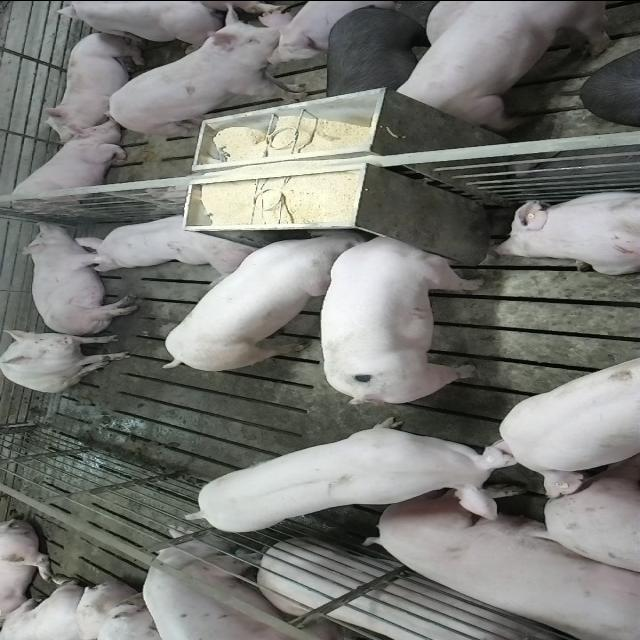Feeding: (160, 229, 362, 377), (318, 224, 484, 398)
Lateral_lying: (368, 477, 640, 636), (16, 220, 140, 336)
Sitting: (2, 124, 132, 214), (2, 328, 134, 392)
Standing: (188, 420, 533, 536), (391, 2, 624, 128), (99, 8, 323, 134), (138, 532, 352, 640), (494, 358, 640, 501), (319, 3, 442, 97), (46, 0, 228, 43)
Sternal_lying: (490, 186, 640, 274), (71, 209, 259, 273), (39, 29, 150, 137)
